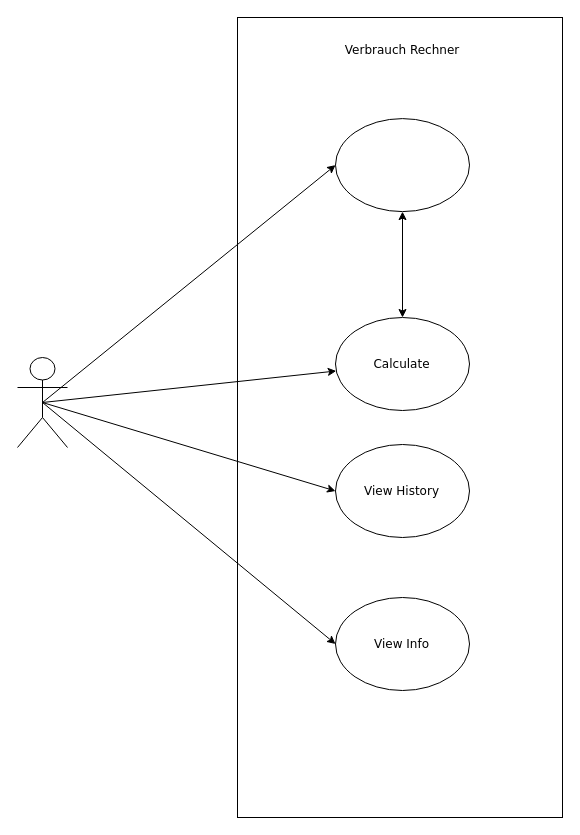
Some shapes in this 580 by 835 pixel diagram are drawn without their labels. Each missing label, with the centre of its shape:
Enter Values: point 402,165
User: point 42,402
